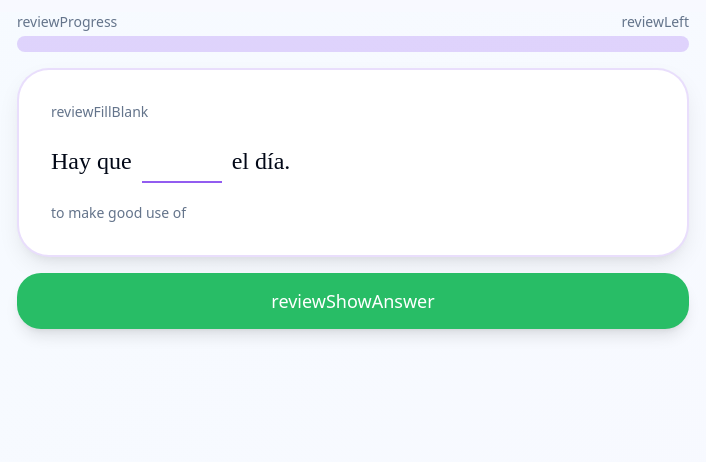
Test: ReviewSession › production formats › hides the word in a cloze until the answer is shown
Check: the element with test id "review-blank" is shown, box x1=142 y1=142 x2=222 y2=183
Check: the element with test id "review-front" does not show "aprovechar", box x1=51 y1=142 x2=290 y2=183
Click the button "reviewShowAnswer".
click(353, 301)  # box x1=17 y1=273 x2=689 y2=329
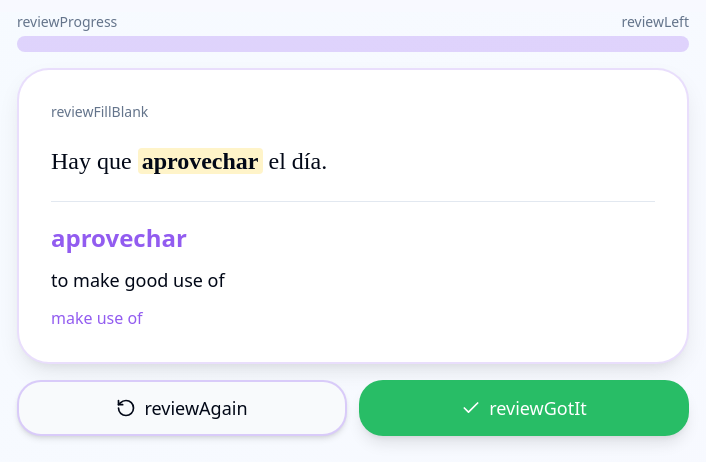
Check: the text with test id "review-answer-word" reads "aprovechar", box x1=51 y1=221 x2=187 y2=254
Check: the text with test id "review-target" reads "aprovechar", box x1=142 y1=148 x2=258 y2=174
